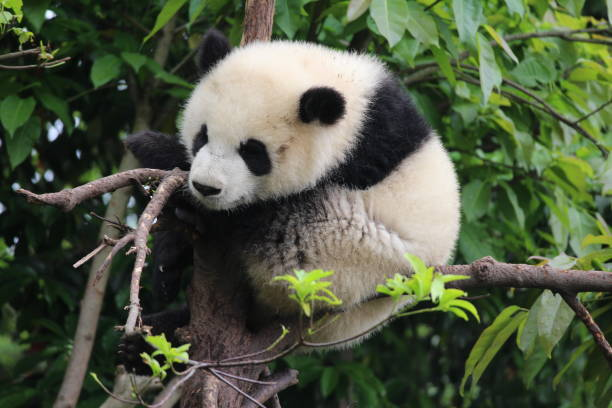panda: (154, 29, 431, 222)
